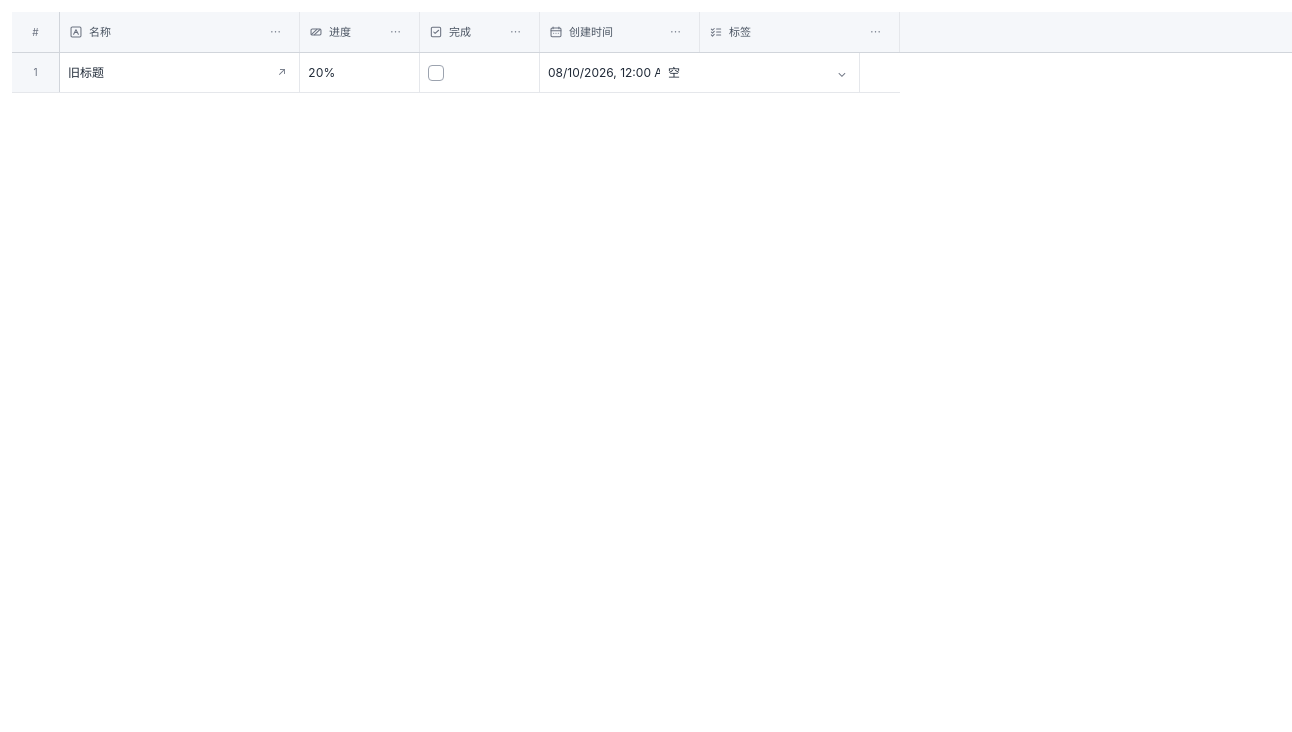
Scenario: DataGrid Phase 37 交互 › 复选框直接保存失败后保留目标值并允许重试
What coordinates should you click on to do the following:
click the button named "切换完成"
I would click on:
 (436, 72)
Its box is [428,64,444,80].
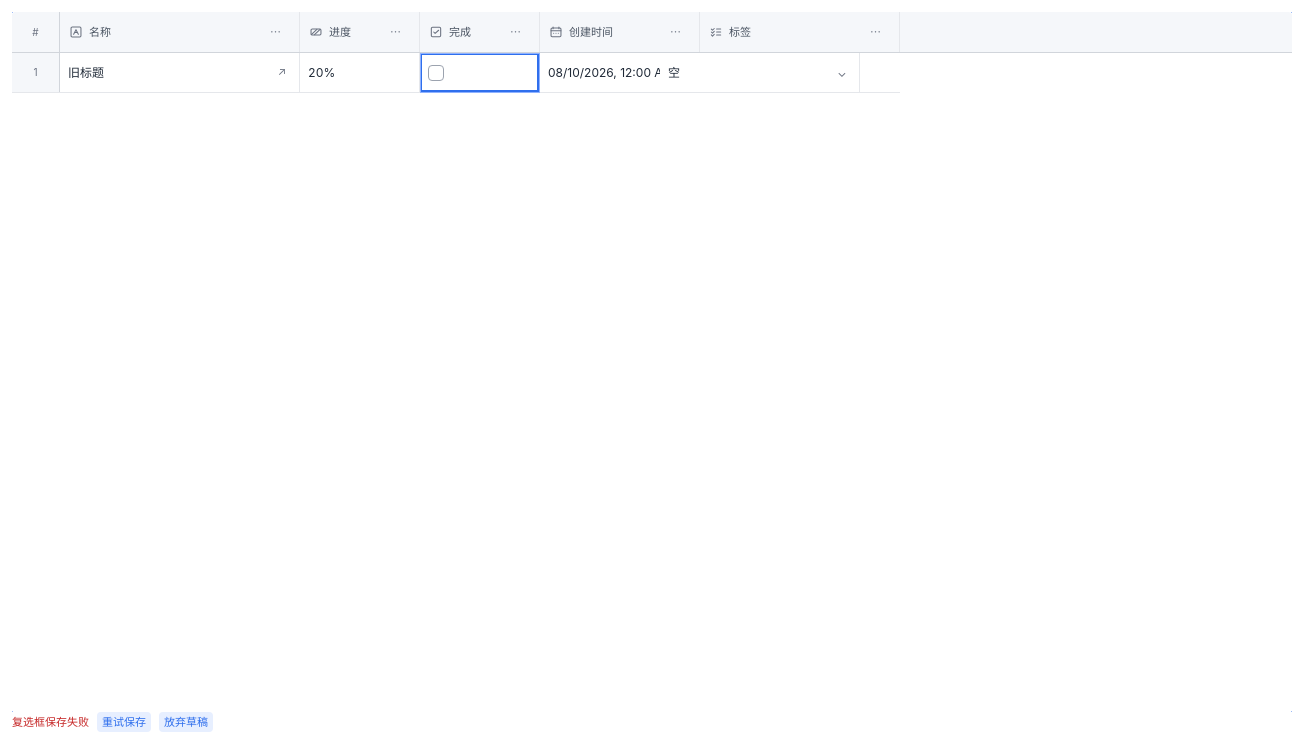
What coordinates should you click on to do the following:
click the button "重试保存"
I would click on:
 (124, 722)
Its box is [97,712,151,731].
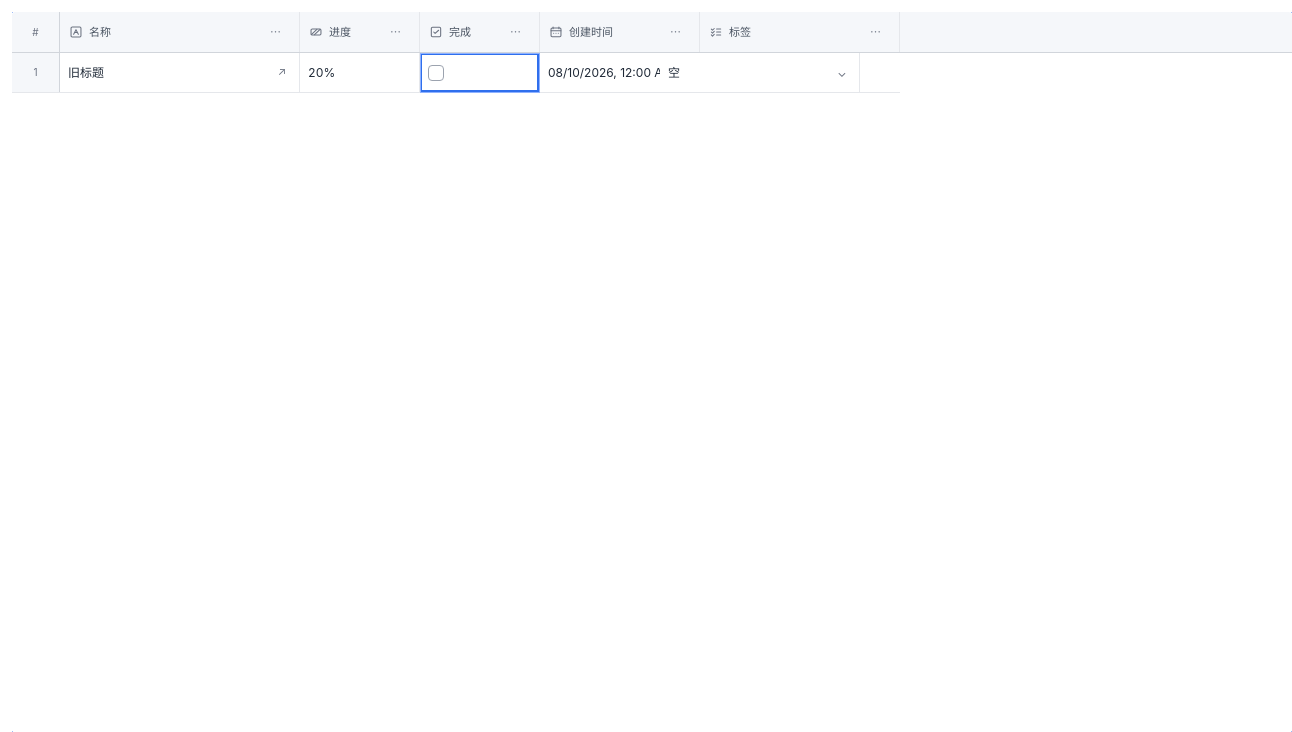
Expected: the button "重试保存" is gone
